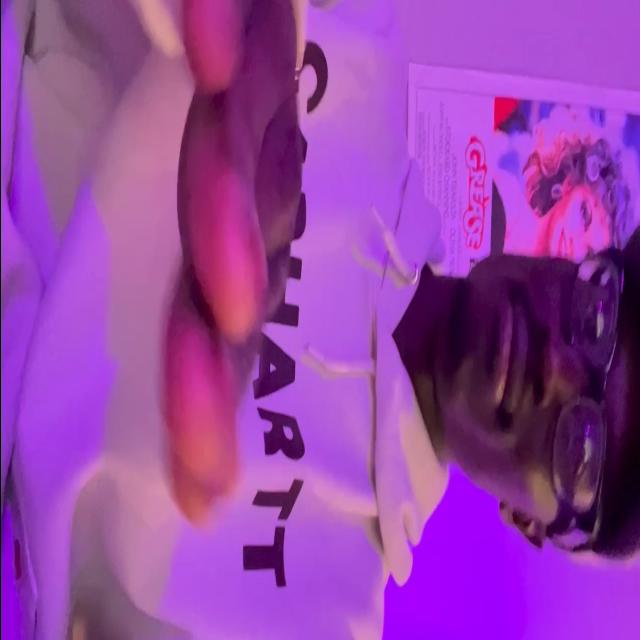Paper: (159, 0, 302, 524)
